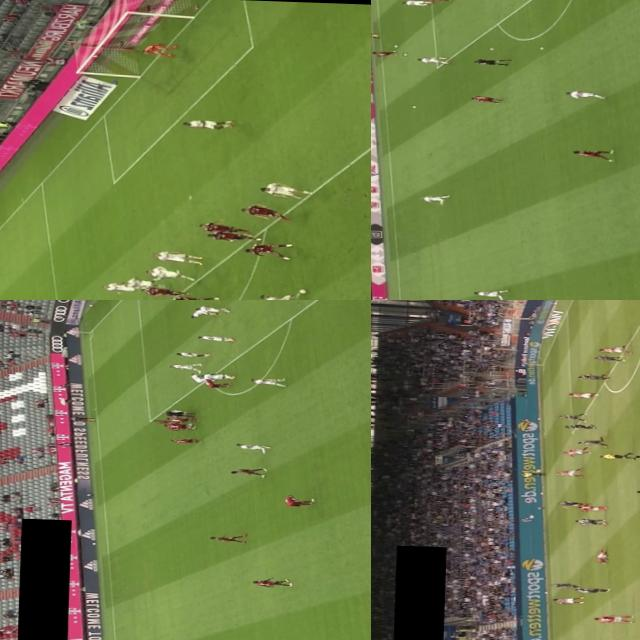ball: (296, 287, 308, 293), (185, 421, 195, 425), (526, 514, 536, 518), (410, 104, 418, 108), (402, 51, 408, 56), (538, 46, 544, 49), (488, 46, 493, 49), (392, 44, 398, 46)
player: (238, 202, 293, 222), (240, 240, 293, 260), (144, 265, 195, 281), (180, 116, 232, 130), (152, 250, 202, 264), (102, 282, 154, 294), (264, 182, 308, 196), (278, 492, 316, 508), (140, 284, 186, 297), (208, 228, 256, 240), (196, 222, 242, 234), (250, 575, 292, 588), (140, 43, 176, 58), (257, 290, 307, 300), (560, 444, 594, 458), (572, 148, 614, 159), (206, 532, 248, 543), (588, 612, 634, 622), (168, 291, 218, 300), (227, 465, 267, 476), (548, 594, 584, 606), (124, 278, 160, 288), (472, 288, 508, 298), (230, 441, 270, 450), (420, 193, 452, 204), (574, 372, 612, 381), (165, 362, 202, 371), (185, 308, 218, 318), (245, 376, 286, 384), (172, 349, 208, 358), (574, 438, 610, 447), (566, 90, 606, 98), (553, 468, 587, 477), (598, 344, 632, 353), (198, 371, 236, 379), (471, 95, 504, 104), (194, 335, 235, 342), (186, 371, 212, 382), (203, 378, 231, 388), (569, 586, 611, 592), (417, 55, 448, 63), (161, 422, 195, 429), (166, 415, 200, 422), (565, 391, 599, 398), (168, 436, 200, 443), (578, 503, 610, 510), (572, 518, 608, 524), (558, 499, 588, 506), (372, 48, 398, 56), (196, 304, 228, 310), (550, 582, 580, 588), (564, 423, 594, 429), (598, 546, 606, 564), (402, 0, 430, 5), (592, 356, 626, 360), (152, 418, 183, 422), (556, 414, 584, 418), (419, 0, 451, 2)
